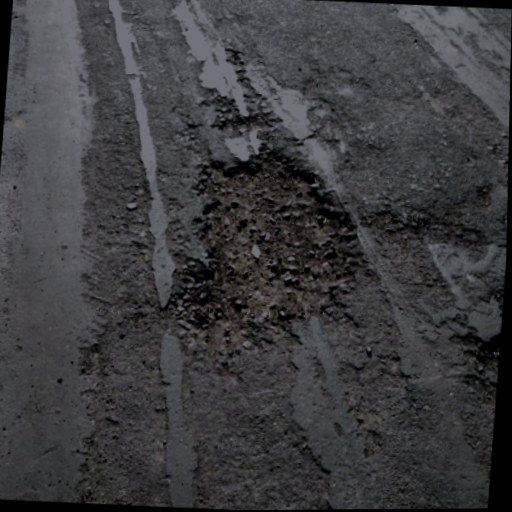pothole: (164, 143, 369, 362)
